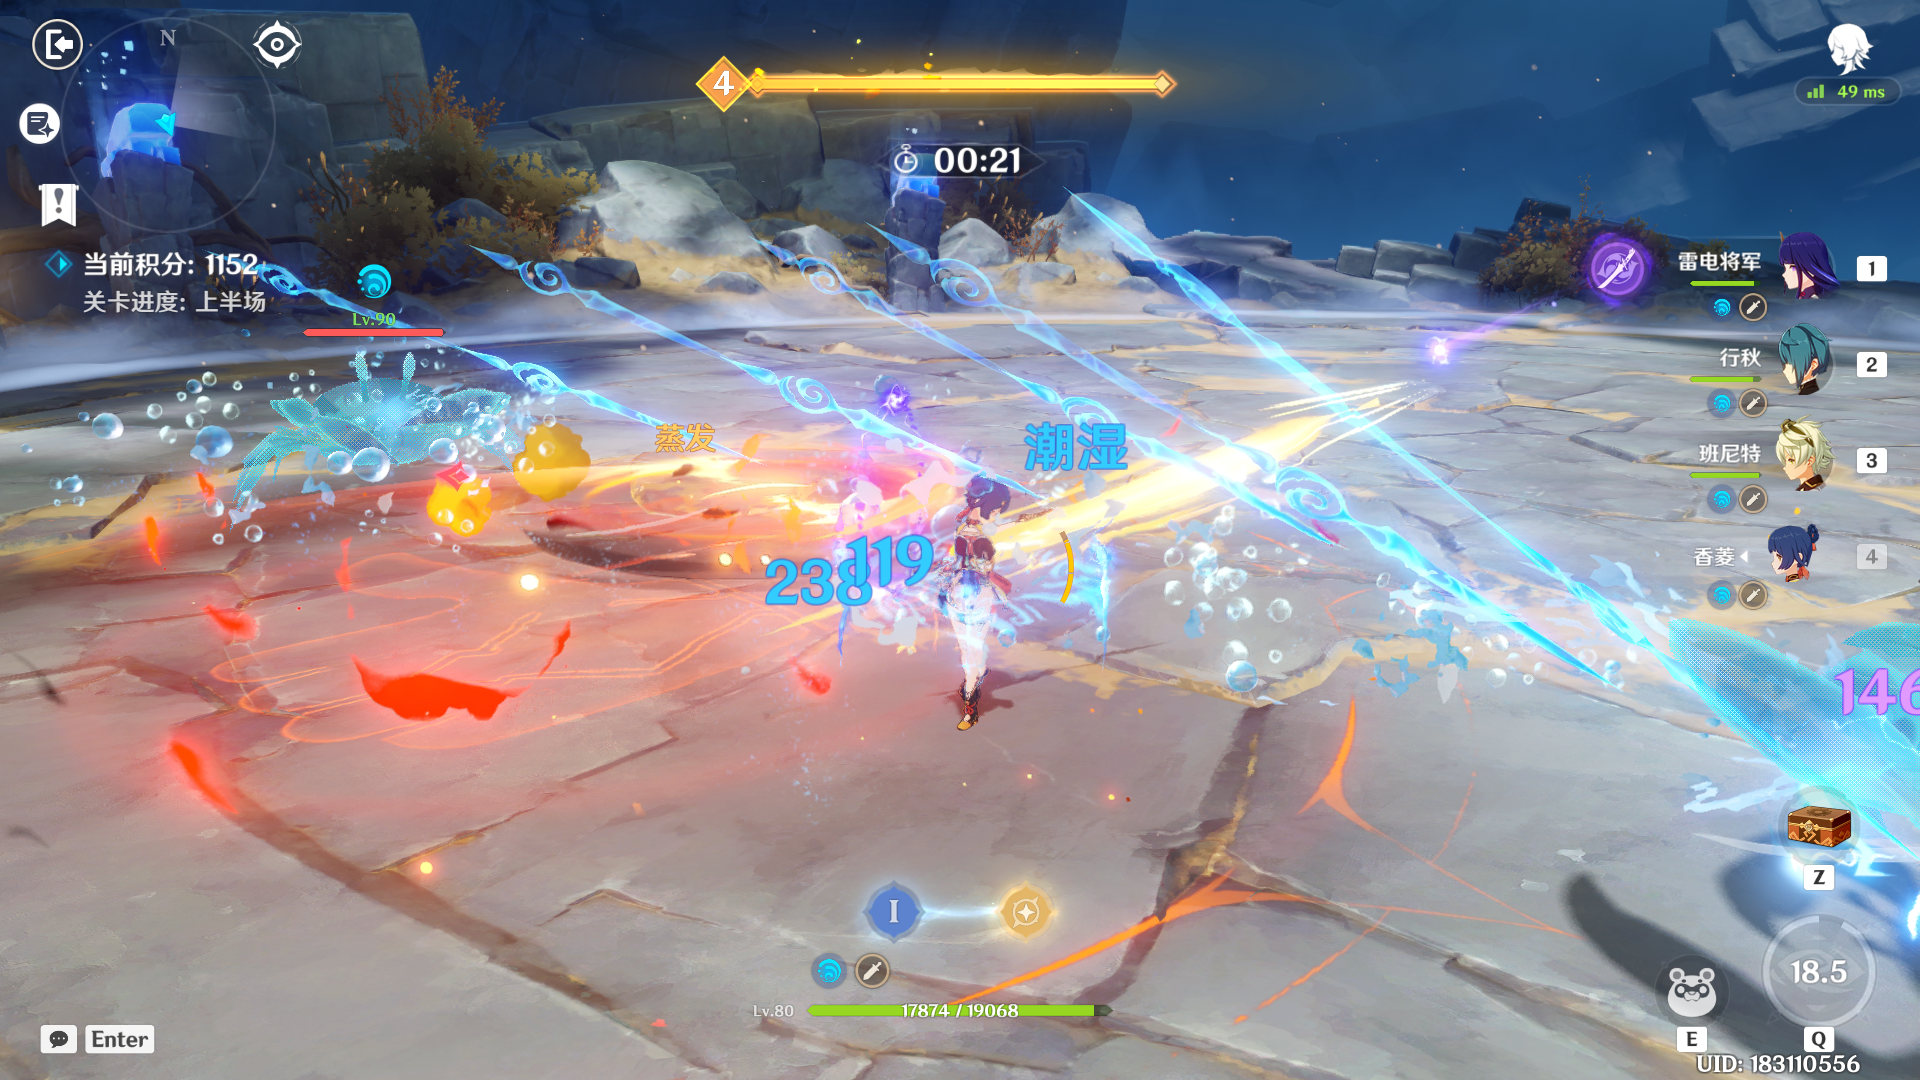character: (872, 448, 1080, 760)
